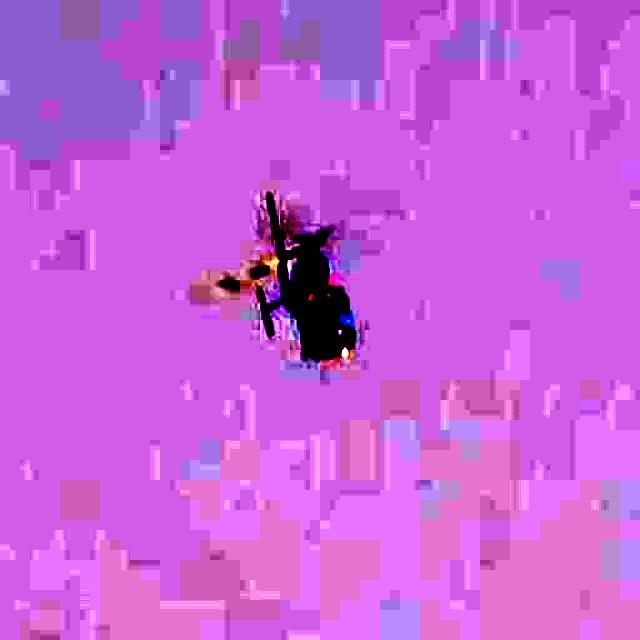drone: (165, 122, 432, 422)
